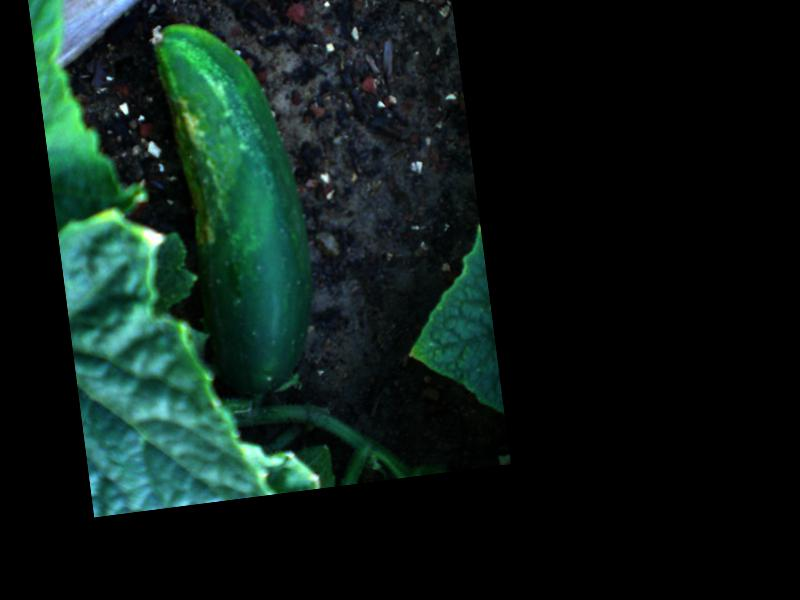Cucumber: (148, 10, 325, 401)
